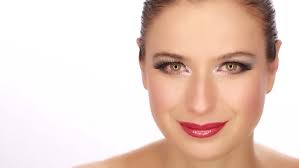white_female: (155, 31, 267, 158)
